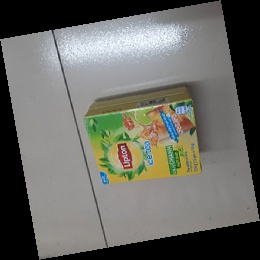LipTon: (83, 86, 202, 186)
